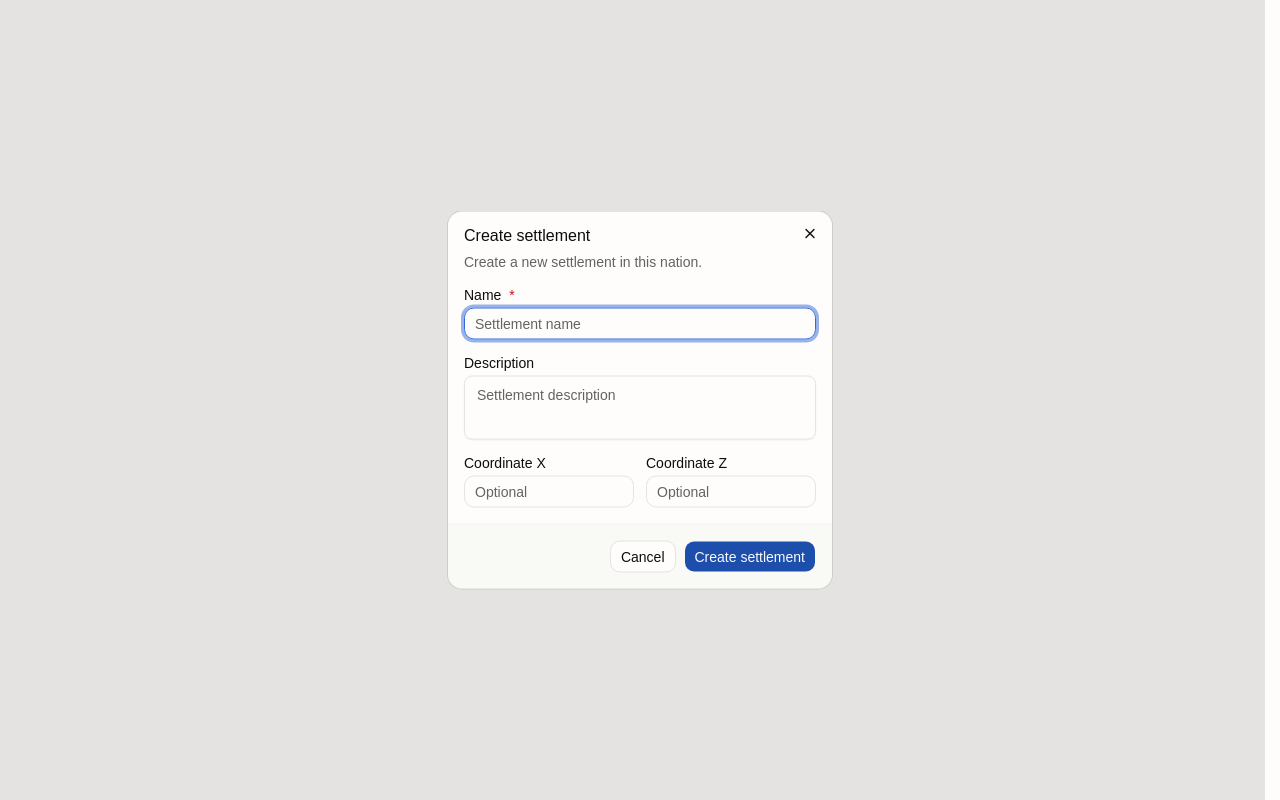
CreateSettlementDialog › shows character count for name field
This screenshot has width=1280, height=800.
Type "Test" into the field with placeholder "Settlement name" at (640,324), box [464,308,816,340]
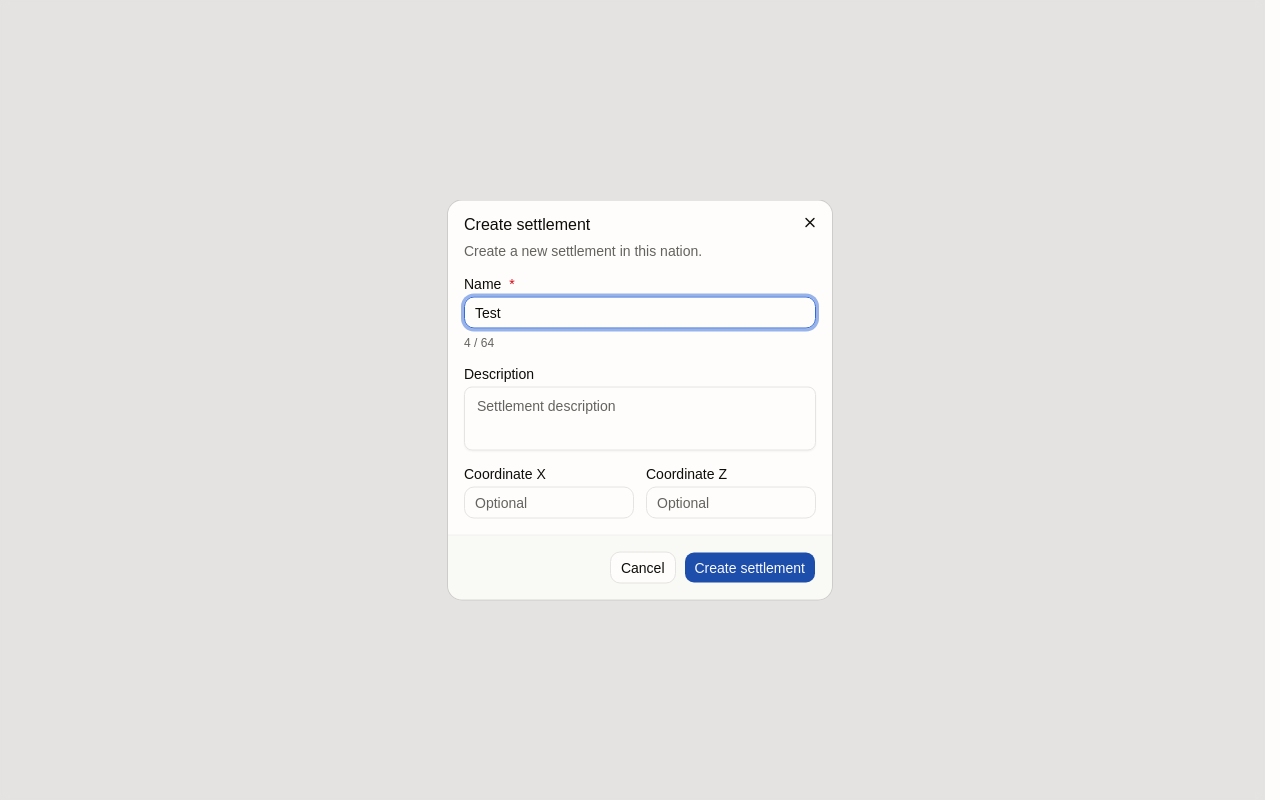
Check: the text "4 / 64" is shown, box [464,336,494,350]
